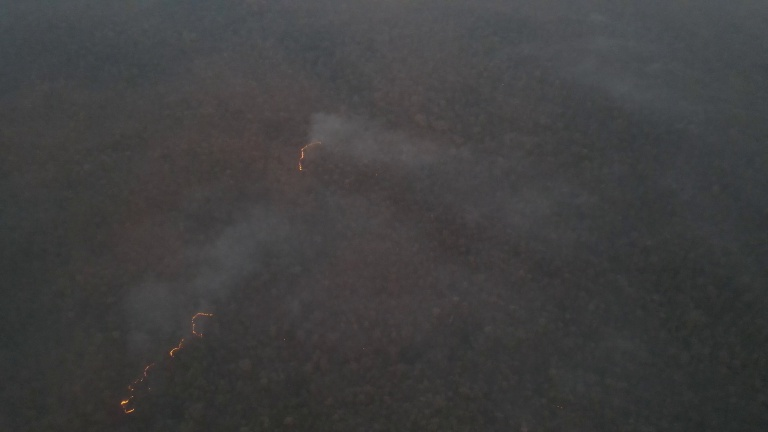fire: (117, 310, 214, 417), (295, 139, 322, 173)
smoke: (120, 228, 283, 315), (308, 110, 411, 162)
